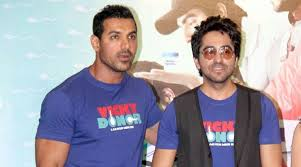Bad: (35, 5, 283, 167)
